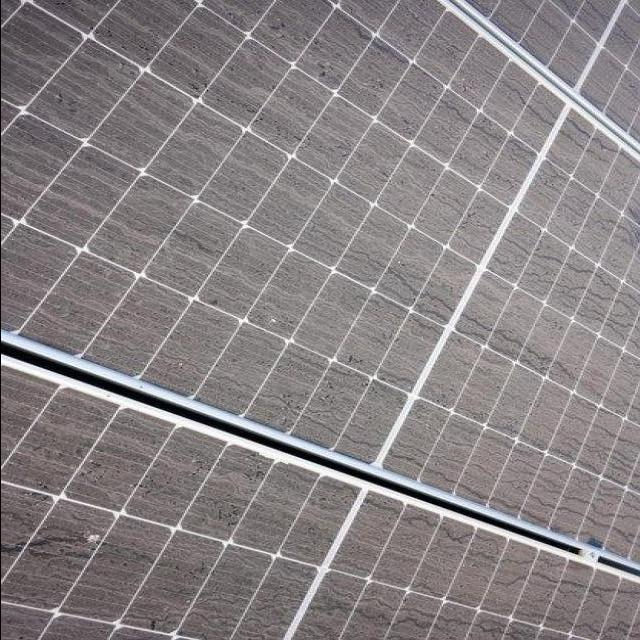soiled: (4, 1, 638, 635)
